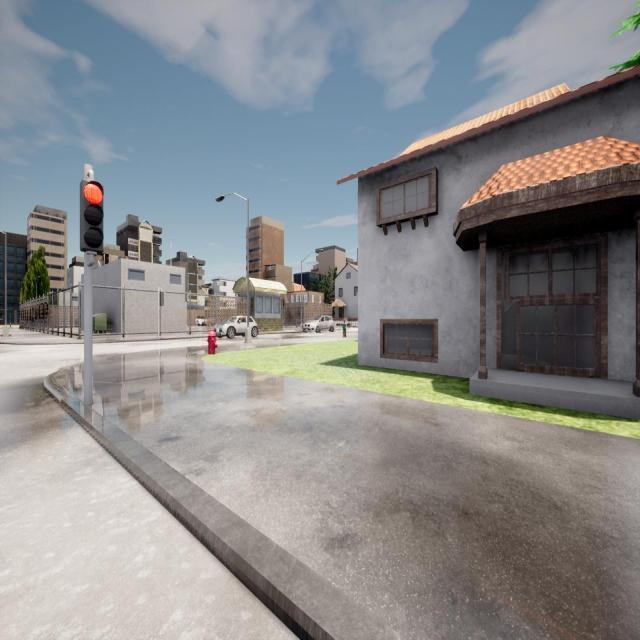Pedestrian: (342, 319, 347, 337)
Vehicle: (215, 316, 259, 338), (303, 315, 334, 333), (196, 315, 207, 327)
traffic_light: (80, 180, 104, 251), (160, 291, 164, 306)
